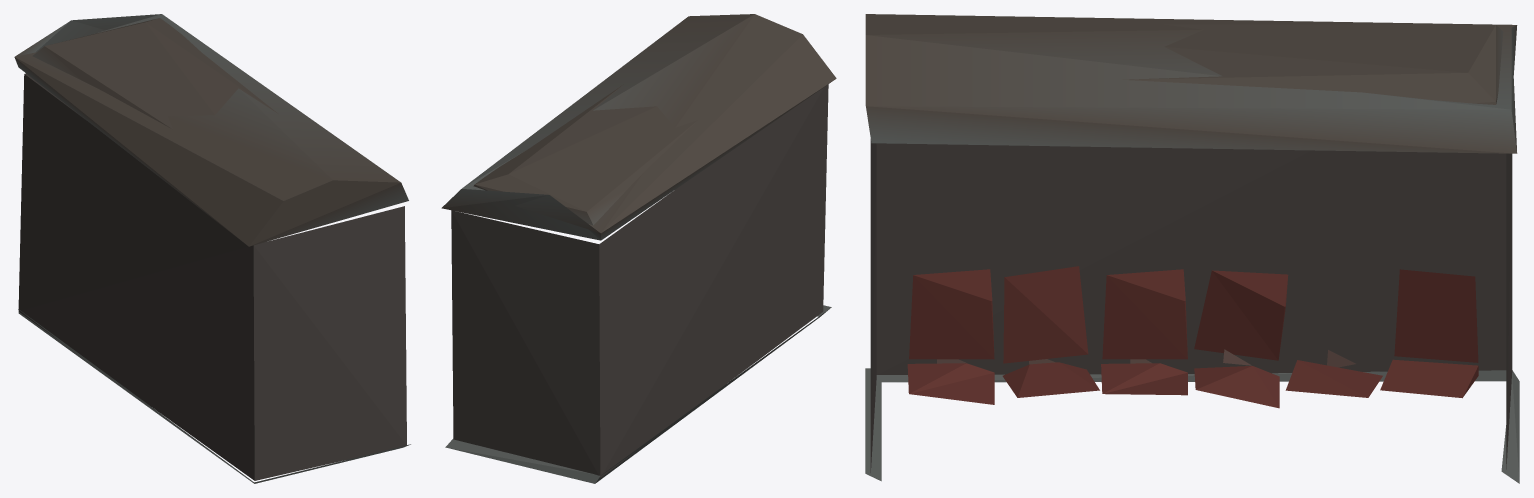
Rendered from tram-shelter.lod2.glb.
The picture shows the model from 3 angles, left to right: view 1: azimuth 30°, elevation 25°; view 2: azimuth 150°, elevation 25°; view 3: azimuth 270°, elevation 25°; orthographic projection. The views are drawn at different scales.
Parts seen in each view (by area): view 1: BusStop_low_base_0; view 2: BusStop_low_base_0; view 3: BusStop_low_base_0.
Boxes of the visible parts, left/top/right/bottom form: BusStop_low_base_0: left=14, top=14, right=410, bottom=483; BusStop_low_base_0: left=441, top=14, right=836, bottom=483; BusStop_low_base_0: left=865, top=14, right=1519, bottom=483.
Bounding box in the file's own units: 2.43 × 4.01 × 6.
